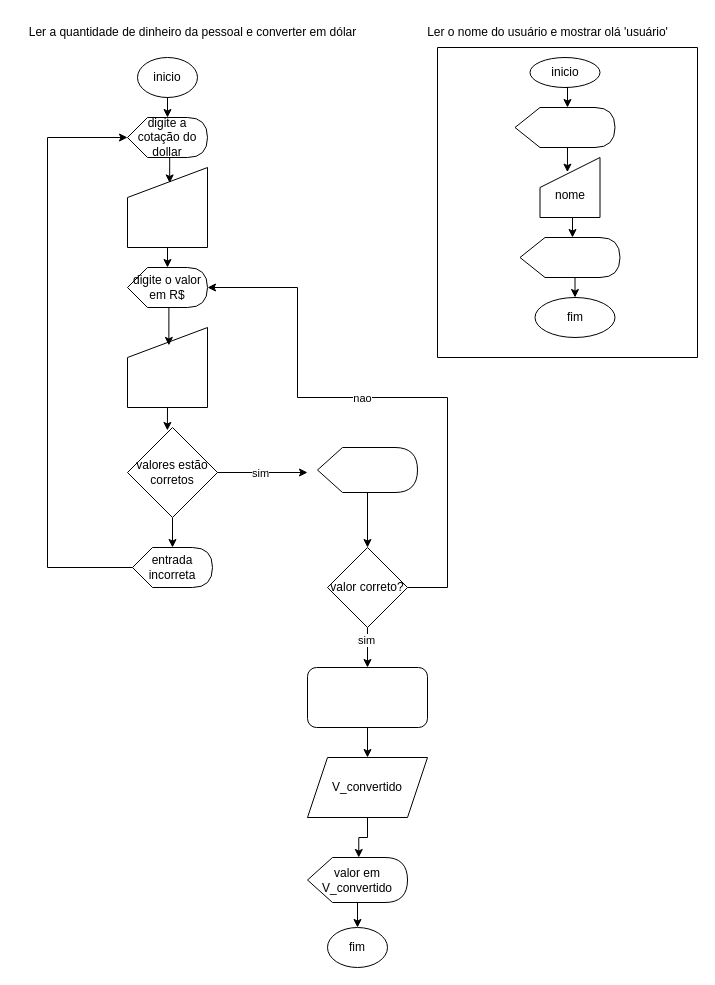
This 715x985 diagram has some shape labels left out. The box of each missing label's shape, as (x1, y1, x2, y2) in pixels:
converter em dollar: (306, 666, 428, 728)
dollar: (126, 166, 208, 248)
Escreva seu nome:: (514, 106, 615, 148)
Olá "nome": (519, 236, 620, 278)
os valores estão corretos?: (316, 446, 418, 492)
valor em R$: (126, 326, 208, 408)
